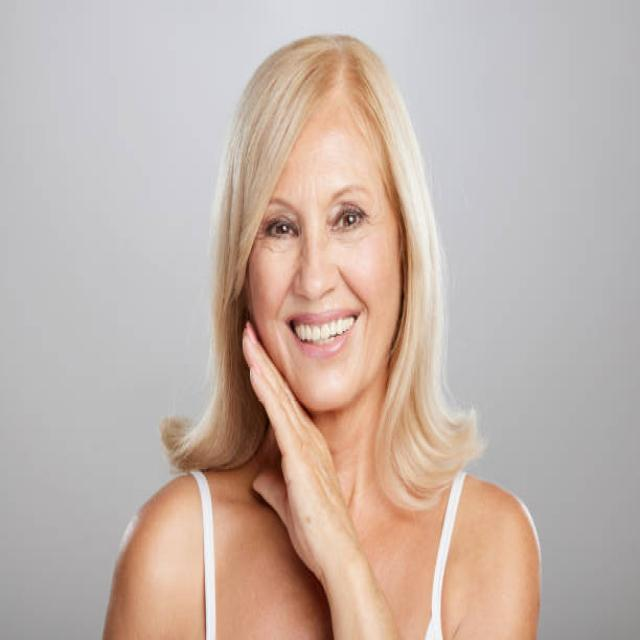Dry-Skin: (341, 227, 413, 350), (281, 133, 357, 204)
